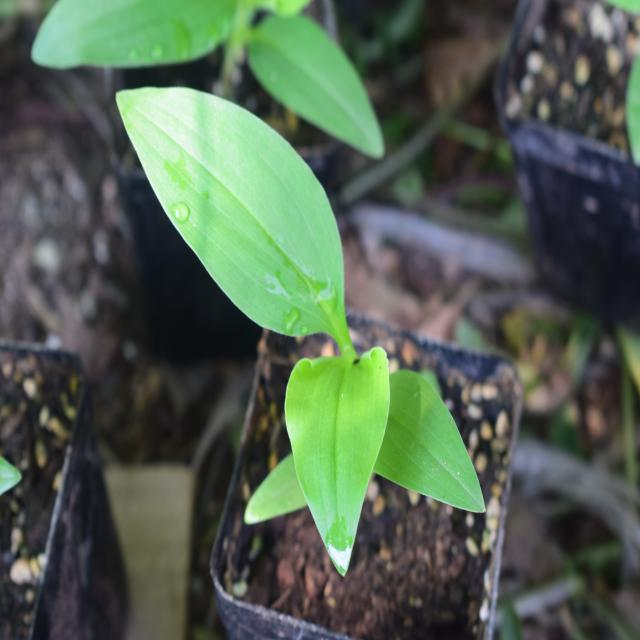Common Dayflower: (116, 82, 492, 556)
